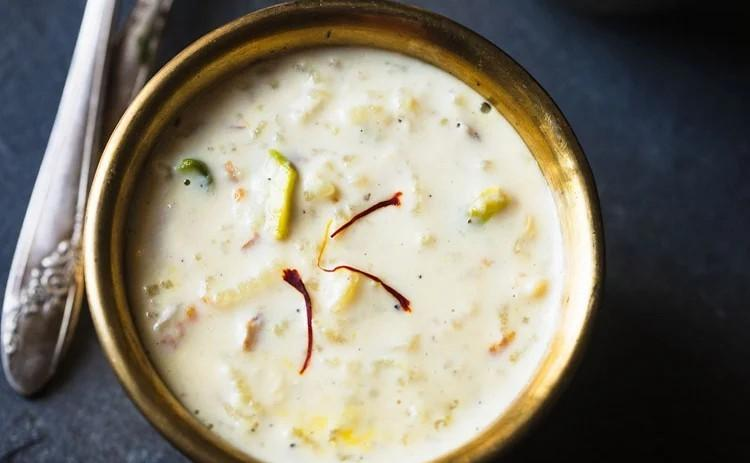Kheer: (123, 51, 565, 463)
